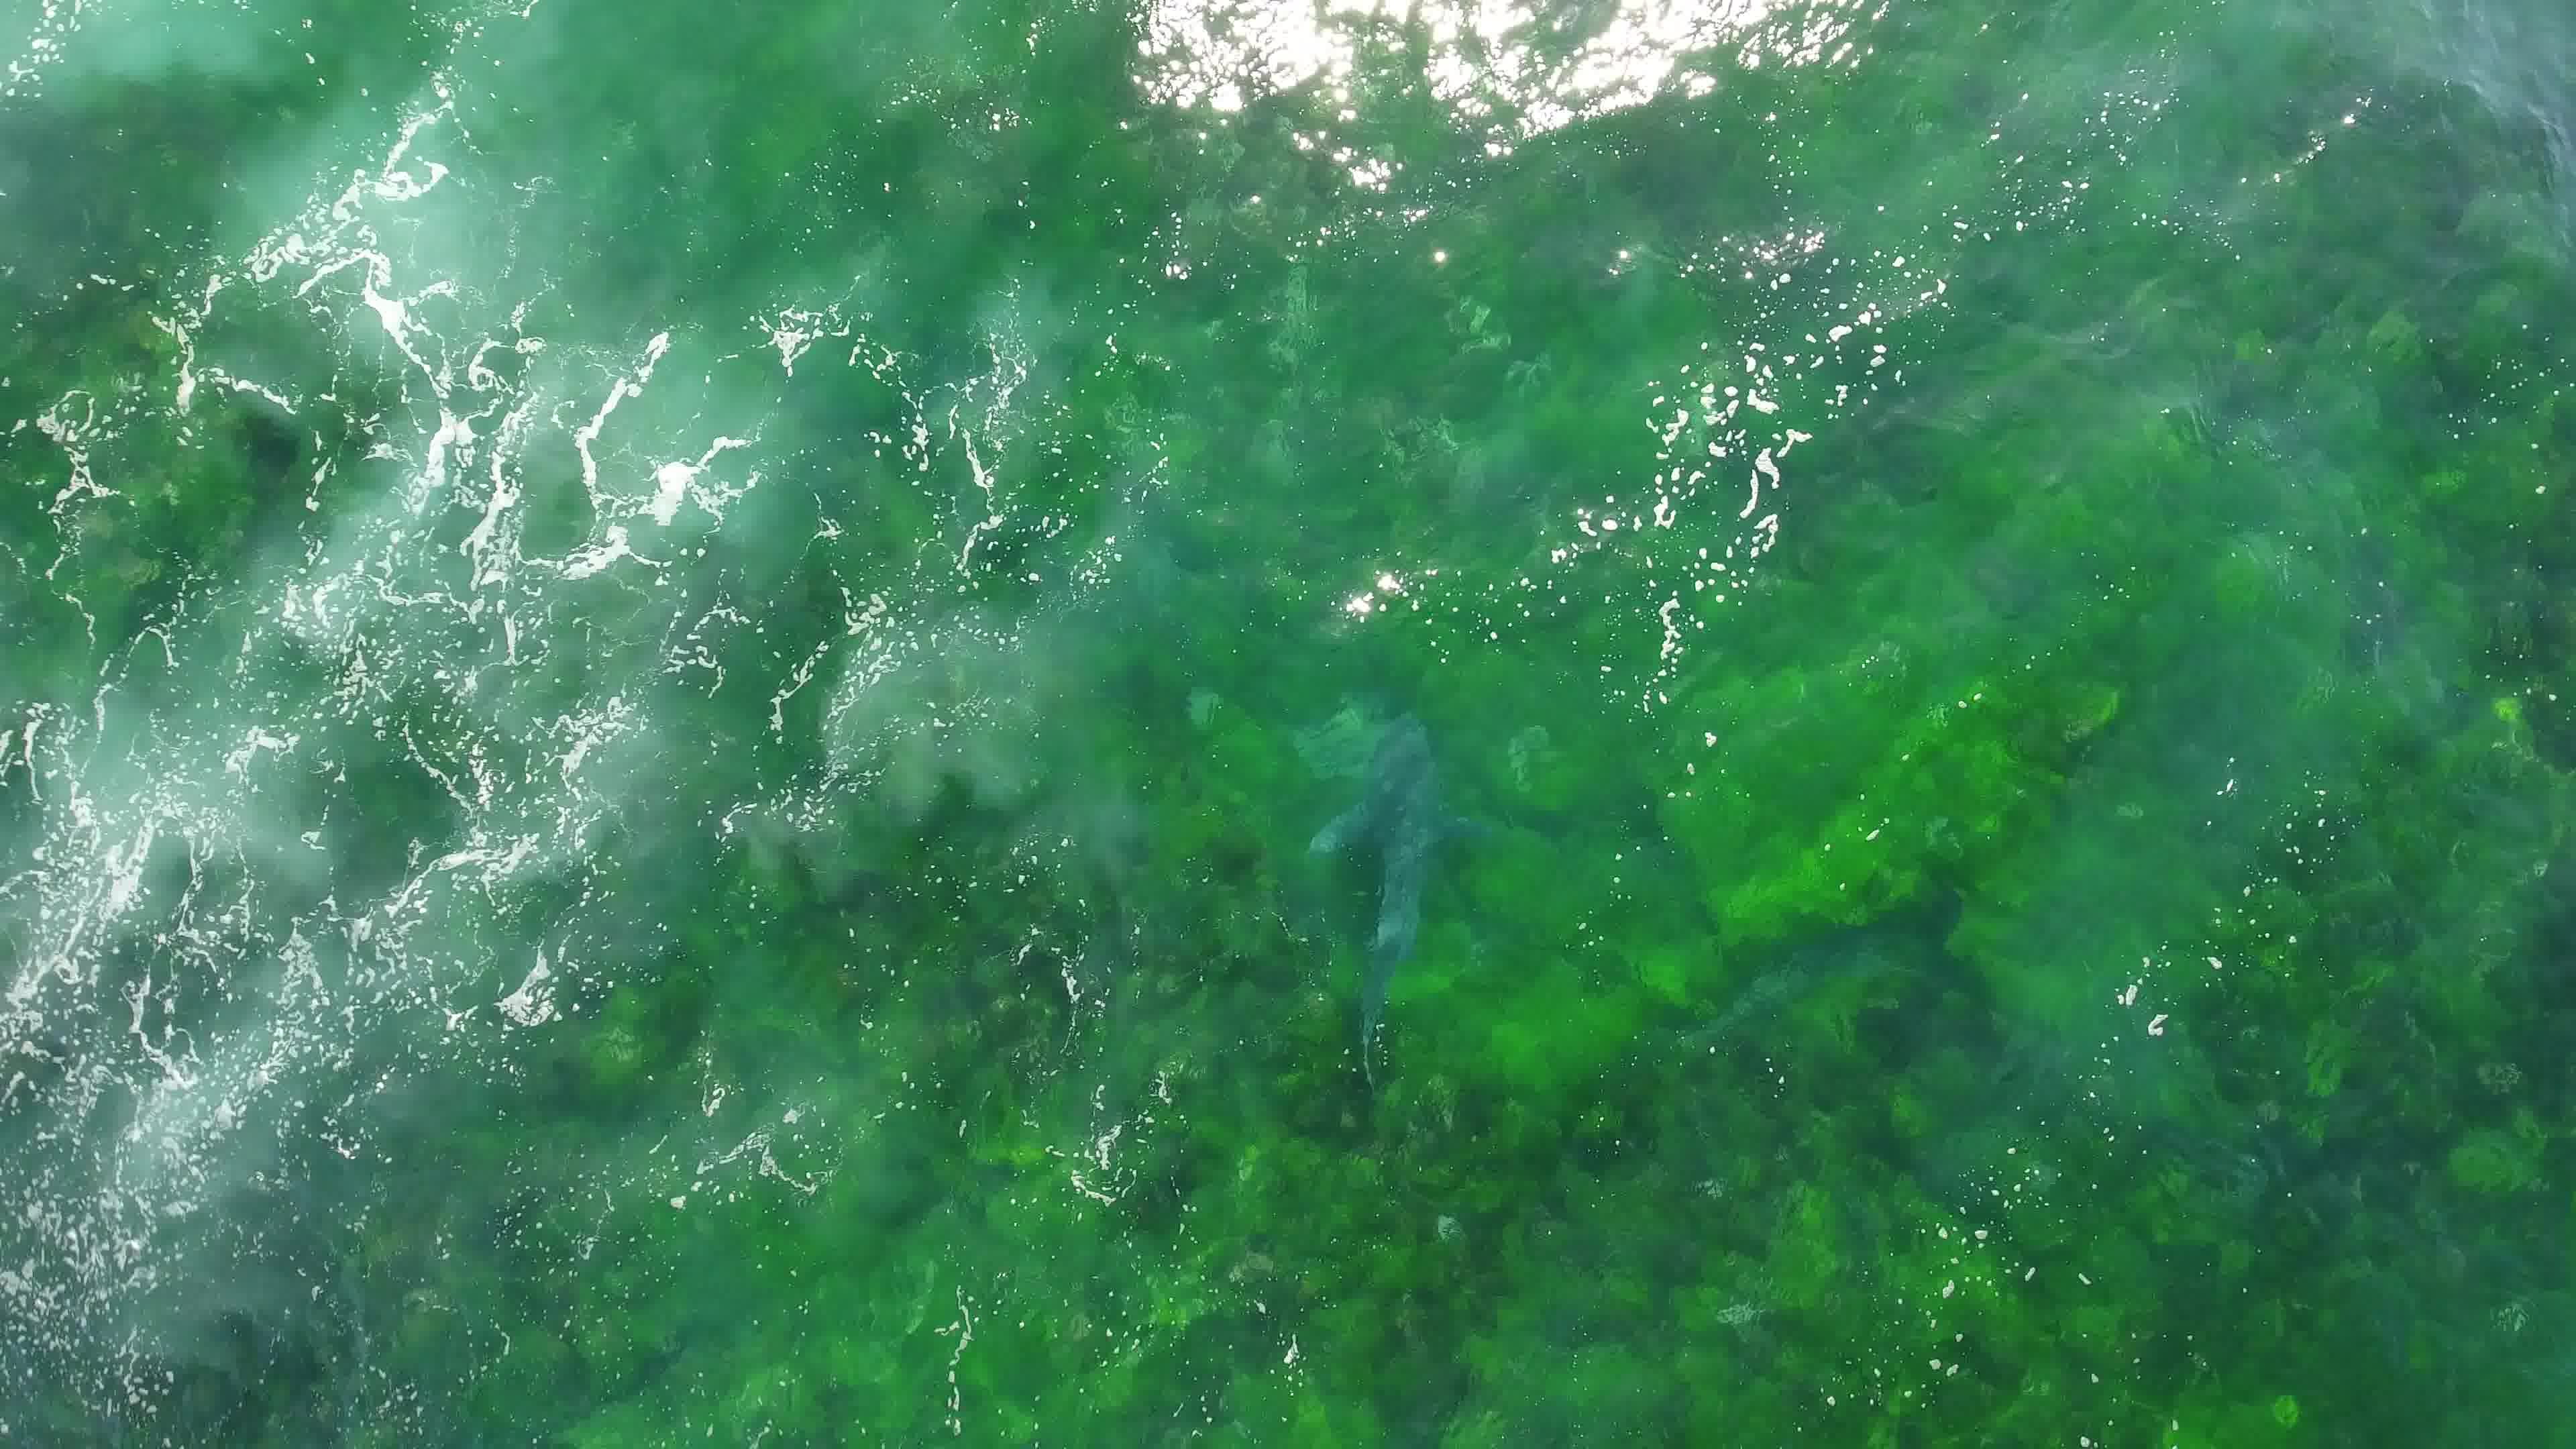shark: (1293, 706, 1491, 1092)
